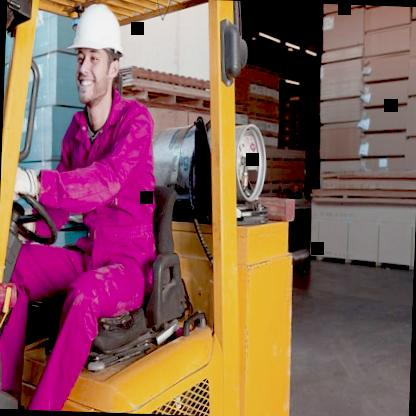helmet: (62, 0, 133, 114)
